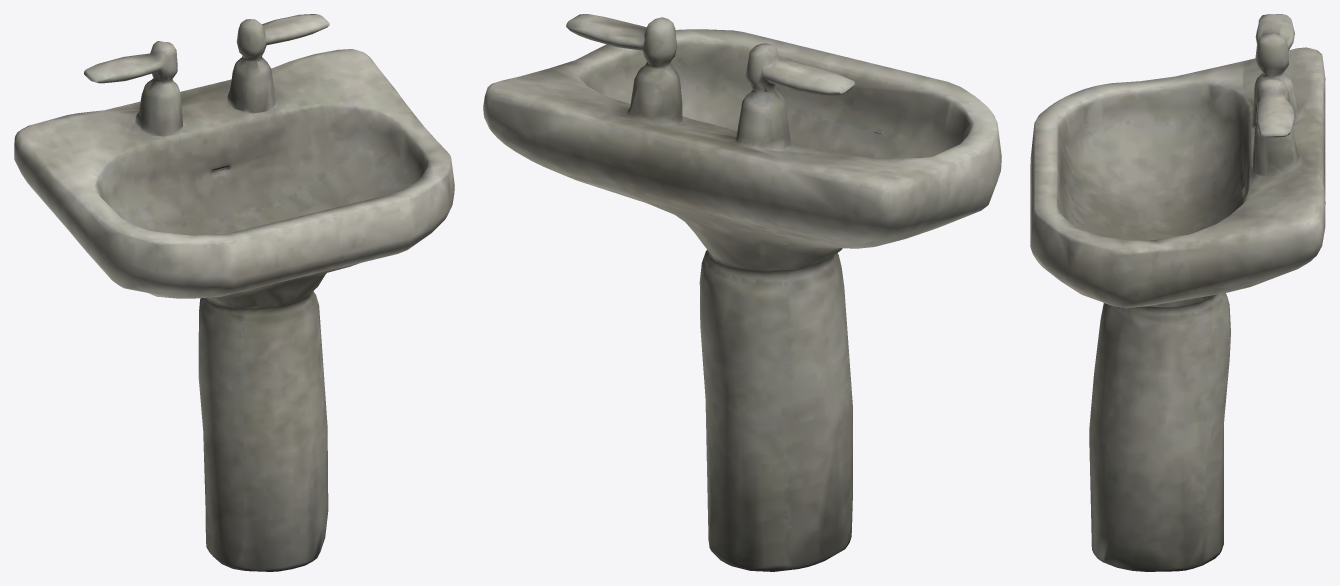
Rendered from plain-white-painted-washbasin-v001.glb.
3 renders of one model, left to right at view 1: azimuth 30°, elevation 25°; view 2: azimuth 150°, elevation 25°; view 3: azimuth 270°, elevation 25°, orthographic. The views are drawn at different scales.
Parts seen in each view (by area): view 1: plain-white-painted-washbasin; view 2: plain-white-painted-washbasin; view 3: plain-white-painted-washbasin.
Part boxes in pixels (bbox=[...]): plain-white-painted-washbasin: bbox=[14, 14, 454, 571]; plain-white-painted-washbasin: bbox=[483, 14, 1001, 571]; plain-white-painted-washbasin: bbox=[1030, 14, 1325, 571].
Bounding box in the file's own units: 0.7267 × 0.9296 × 0.5043.
1 material, 1 textured.
